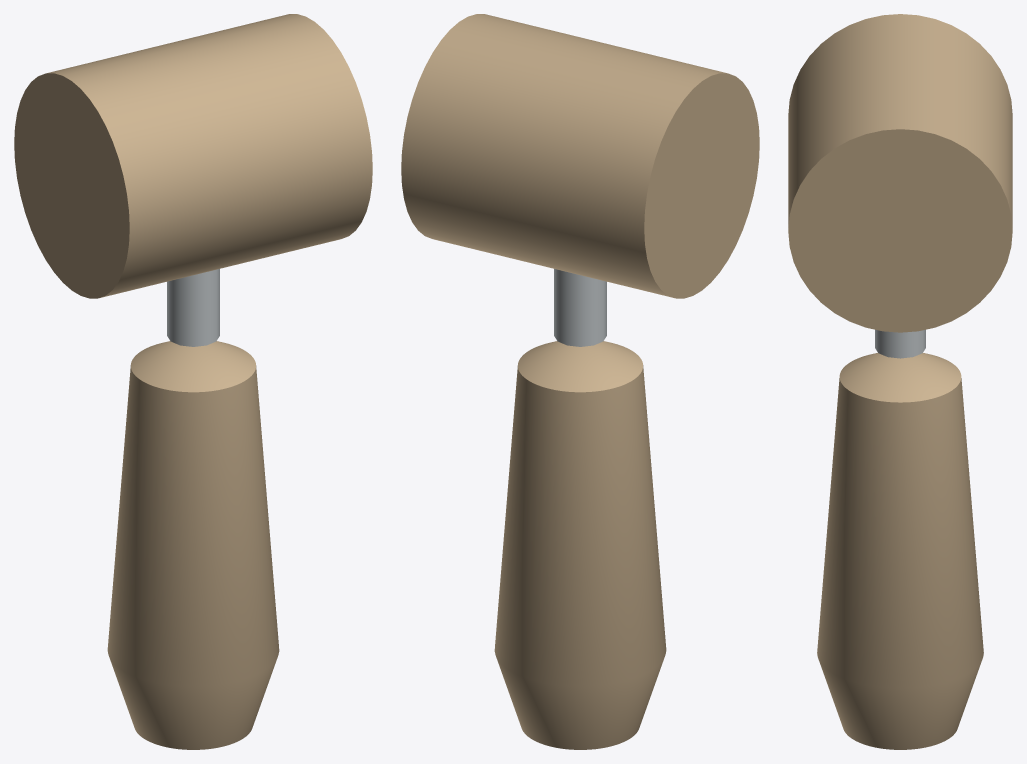
File: textile-weaving-and-dye-workshop-seam-roller-51b9b6fe__29559.glb
3 renders of one model, left to right at view 1: azimuth 30°, elevation 25°; view 2: azimuth 150°, elevation 25°; view 3: azimuth 270°, elevation 25°, orthographic. The views are drawn at different scales.
Parts seen in each view (by area): view 1: seam-roller; view 2: seam-roller; view 3: seam-roller.
Boxes of the visible parts, <box> form: seam-roller: <box>14,14,372,749</box>; seam-roller: <box>401,14,759,749</box>; seam-roller: <box>788,14,1012,749</box>.
Bounding box in the file's own units: 0.085 × 0.225 × 0.07.
